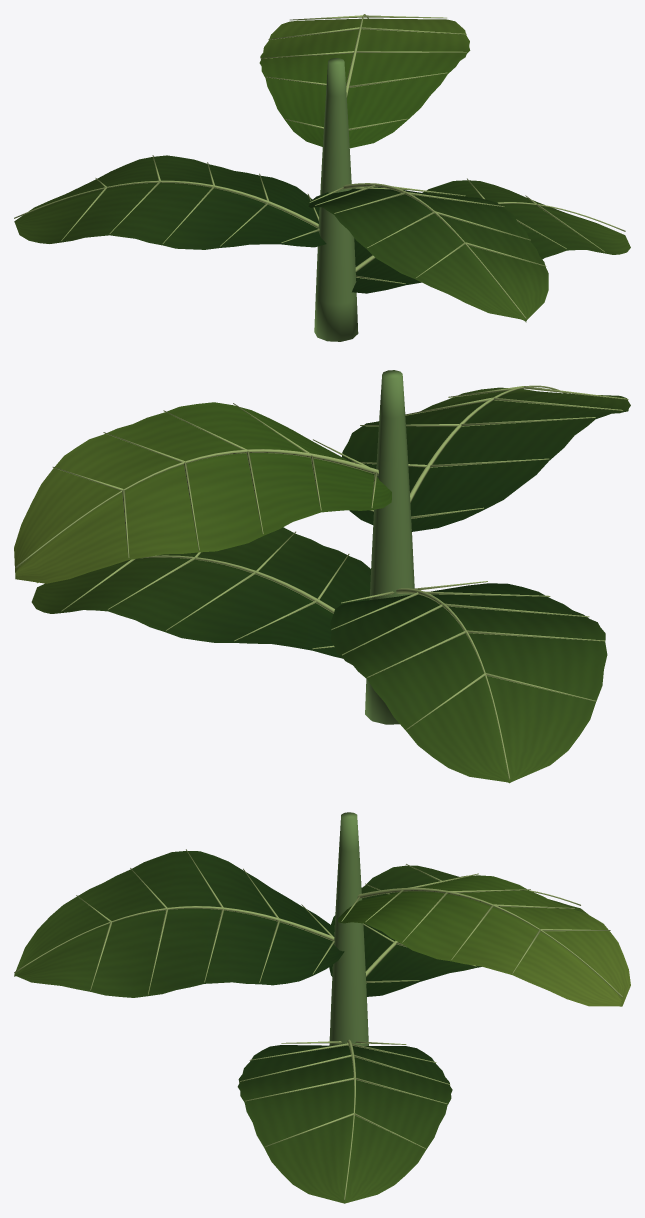
The model's file is daisy-03.glb.
3 views of the same model, one above another, from view 1: azimuth 30°, elevation 25°; view 2: azimuth 150°, elevation 25°; view 3: azimuth 270°, elevation 25° (orthographic). The views are drawn at different scales.
Visible parts, largest first — view 1: daisy_stage_03_leaf_veins.004, daisy_stage_03_young_leaf.004, daisy_stage_03_stem_fibres.004, daisy_stage_03_raised_midveins.004; view 2: daisy_stage_03_leaf_veins.004, daisy_stage_03_young_leaf.004, daisy_stage_03_raised_midveins.004, daisy_stage_03_stem_fibres.004; view 3: daisy_stage_03_leaf_veins.004, daisy_stage_03_young_leaf.004, daisy_stage_03_raised_midveins.004, daisy_stage_03_stem_fibres.004.
Boxes of the visible parts, <box> form: daisy_stage_03_leaf_veins.004: <box>14,155,630,322</box>; daisy_stage_03_young_leaf.004: <box>259,18,470,148</box>; daisy_stage_03_stem_fibres.004: <box>314,58,358,341</box>; daisy_stage_03_raised_midveins.004: <box>14,14,625,318</box>; daisy_stage_03_leaf_veins.004: <box>31,387,630,783</box>; daisy_stage_03_young_leaf.004: <box>14,402,391,583</box>; daisy_stage_03_raised_midveins.004: <box>15,385,628,779</box>; daisy_stage_03_stem_fibres.004: <box>365,370,414,724</box>; daisy_stage_03_leaf_veins.004: <box>14,851,588,1203</box>; daisy_stage_03_young_leaf.004: <box>338,875,630,1006</box>; daisy_stage_03_raised_midveins.004: <box>14,849,622,1199</box>; daisy_stage_03_stem_fibres.004: <box>329,812,368,1045</box>.
Bounding box in the file's own units: 0.107 × 0.0543 × 0.1101.
Materials: 4 (2 with a texture image).
